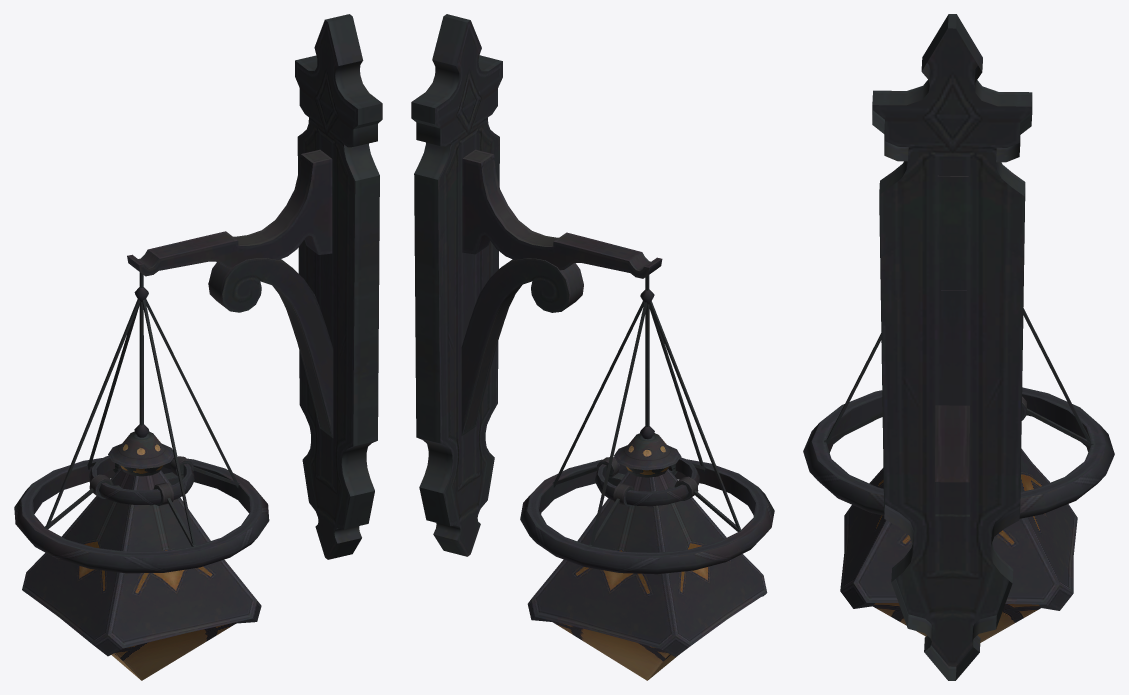
File: Indoor_Mdprops_Church_Lights01_Vo_1134_0.fbx
3 views of the same model, side by side, from view 1: azimuth 30°, elevation 25°; view 2: azimuth 150°, elevation 25°; view 3: azimuth 270°, elevation 25° (orthographic). The views are drawn at different scales.
Parts seen in each view (by area): view 1: Indoor_Mdprops_Church_Lights01_Vo_1134_0; view 2: Indoor_Mdprops_Church_Lights01_Vo_1134_0; view 3: Indoor_Mdprops_Church_Lights01_Vo_1134_0.
Part boxes in pixels (x1,y1,x2,y2): Indoor_Mdprops_Church_Lights01_Vo_1134_0: (14, 14, 382, 680); Indoor_Mdprops_Church_Lights01_Vo_1134_0: (411, 14, 774, 680); Indoor_Mdprops_Church_Lights01_Vo_1134_0: (803, 14, 1114, 680).
Size of the model in its own units: 0.7301 by 1.35 by 0.5092.
